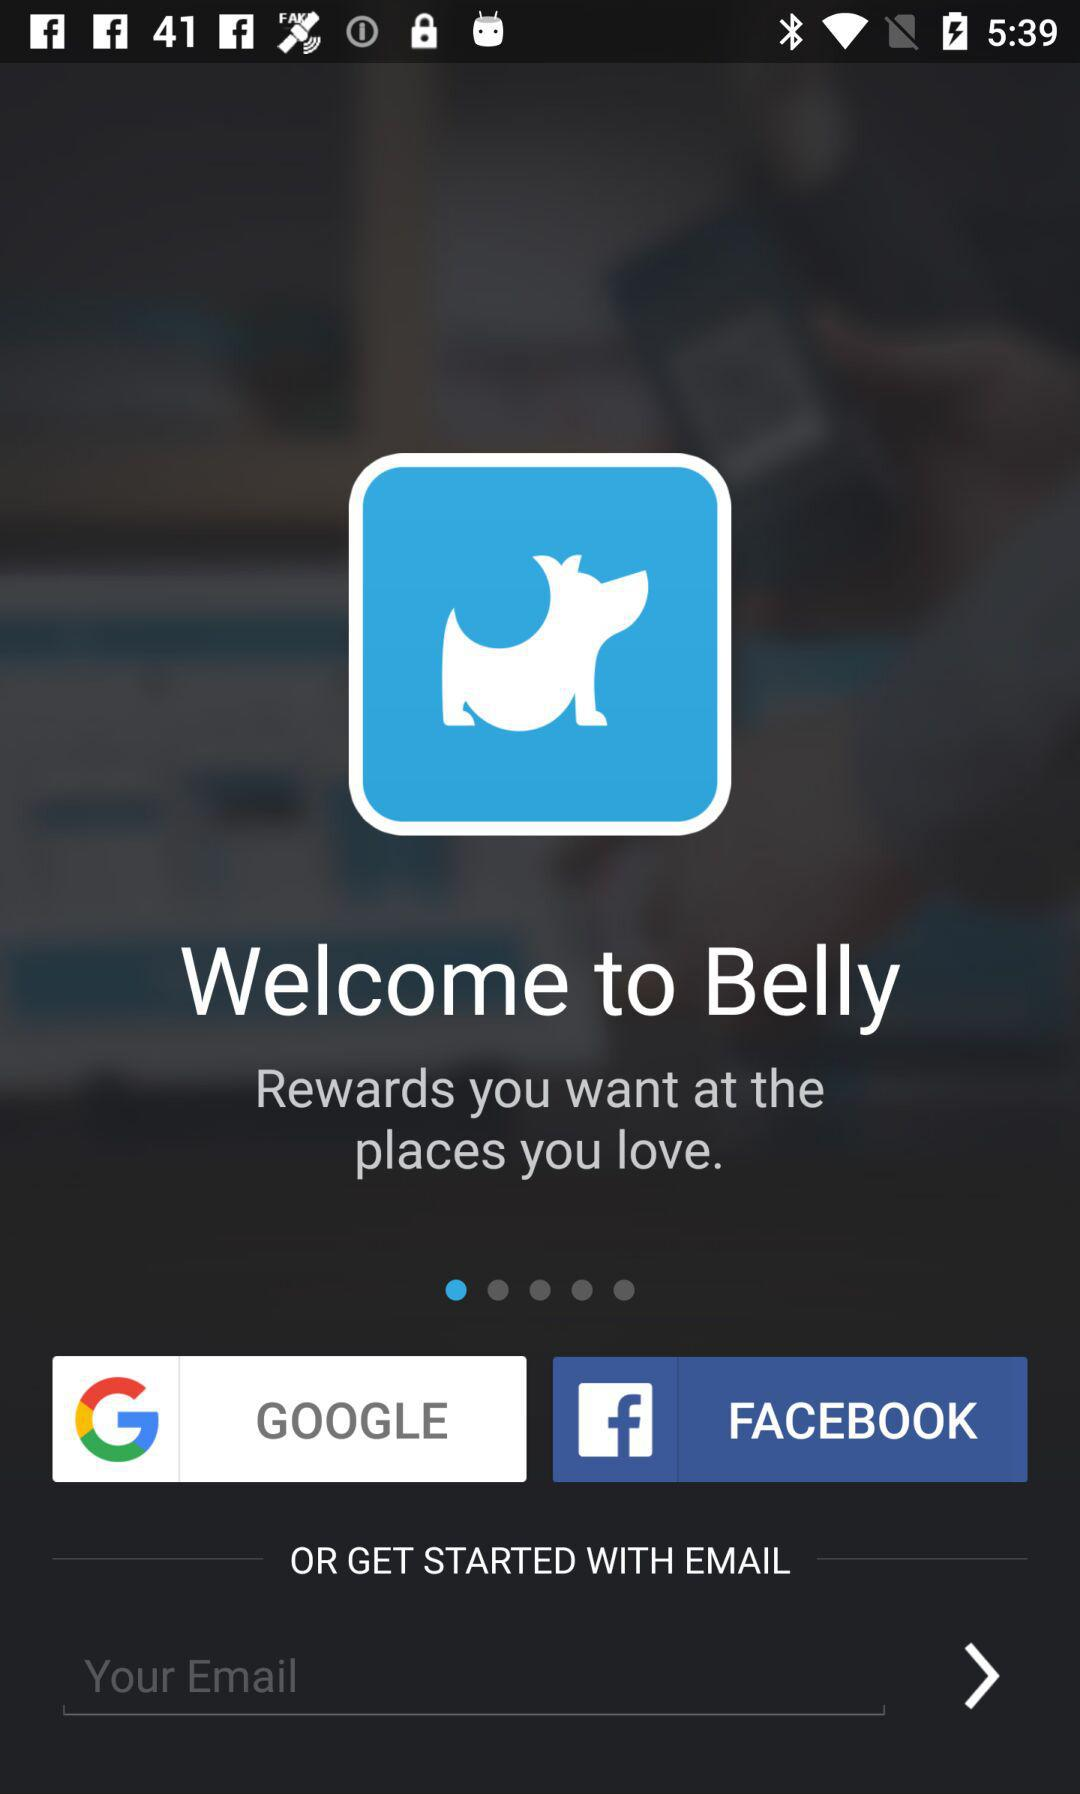EditText: (63, 1657, 887, 1717)
Icon: (963, 1642, 1001, 1711)
Image: (348, 452, 733, 838)
PageIndicator: (445, 1278, 638, 1304)
Text: (179, 942, 901, 1038), (256, 1064, 826, 1181), (290, 1545, 792, 1576), (83, 1657, 299, 1694)
TextButton: (552, 1356, 1027, 1483), (53, 1356, 528, 1483)
UpperTaskBar: (1, 1, 1080, 64)
